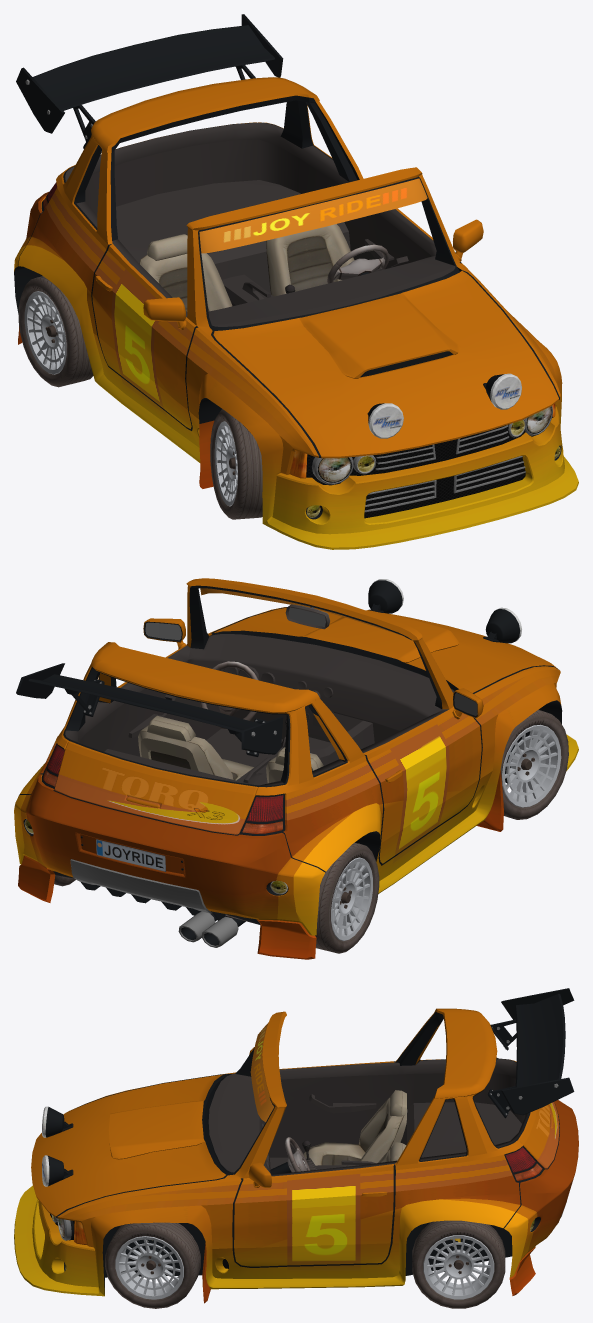
Rendered from tunercar0.glb.
The picture shows the model from 3 angles, top to bottom: view 1: azimuth 30°, elevation 25°; view 2: azimuth 150°, elevation 25°; view 3: azimuth 270°, elevation 25°; orthographic projection. The views are drawn at different scales.
Visible parts, largest first — view 1: node_id132, node_id124, node_id40, node_id122, node_id136, node_id49, node_id126, node_id99, node_id96, node_id45, node_id103, node_id92 (+9 smaller); view 2: node_id132, node_id124, node_id122, node_id40, node_id92, node_id49, node_id126, node_id99, node_id103, node_id94, node_id74, node_id101 (+8 smaller); view 3: node_id132, node_id124, node_id40, node_id122, node_id106, node_id113, node_id45, node_id117, node_id110, node_id108, node_id115, node_id52 (+5 smaller).
Boxes of the visible parts, x1=… form: node_id132: x1=14, y1=77, x2=578, y2=549; node_id124: x1=65, y1=122, x2=455, y2=326; node_id40: x1=16, y1=14, x2=283, y2=148; node_id122: x1=14, y1=95, x2=561, y2=519; node_id136: x1=306, y1=417, x2=552, y2=518; node_id49: x1=266, y1=224, x2=354, y2=296; node_id126: x1=311, y1=406, x2=552, y2=512; node_id99: x1=24, y1=291, x2=66, y2=374; node_id96: x1=218, y1=409, x2=262, y2=519; node_id45: x1=139, y1=253, x2=232, y2=311; node_id103: x1=21, y1=276, x2=93, y2=387; node_id92: x1=214, y1=421, x2=237, y2=506; node_id132: x1=14, y1=578, x2=578, y2=959; node_id124: x1=65, y1=634, x2=454, y2=816; node_id122: x1=19, y1=585, x2=562, y2=924; node_id40: x1=16, y1=663, x2=283, y2=756; node_id92: x1=502, y1=724, x2=561, y2=807; node_id49: x1=138, y1=715, x2=253, y2=780; node_id126: x1=70, y1=859, x2=212, y2=913; node_id99: x1=331, y1=857, x2=372, y2=941; node_id103: x1=315, y1=842, x2=376, y2=953; node_id94: x1=500, y1=718, x2=568, y2=815; node_id74: x1=178, y1=911, x2=238, y2=947; node_id101: x1=329, y1=850, x2=379, y2=949; node_id132: x1=14, y1=1008, x2=578, y2=1303; node_id124: x1=208, y1=1058, x2=528, y2=1176; node_id40: x1=487, y1=988, x2=574, y2=1118; node_id122: x1=56, y1=1012, x2=559, y2=1293; node_id106: x1=423, y1=1235, x2=494, y2=1299; node_id113: x1=115, y1=1236, x2=183, y2=1299; node_id45: x1=303, y1=1097, x2=407, y2=1165; node_id117: x1=105, y1=1222, x2=200, y2=1308; node_id110: x1=412, y1=1220, x2=505, y2=1308; node_id108: x1=417, y1=1230, x2=500, y2=1306; node_id115: x1=108, y1=1231, x2=189, y2=1306; node_id52: x1=285, y1=1137, x2=310, y2=1172.
Bounding box in the file's own units: 0.512 × 0.3761 × 0.8963.
54 materials, 54 textured.
